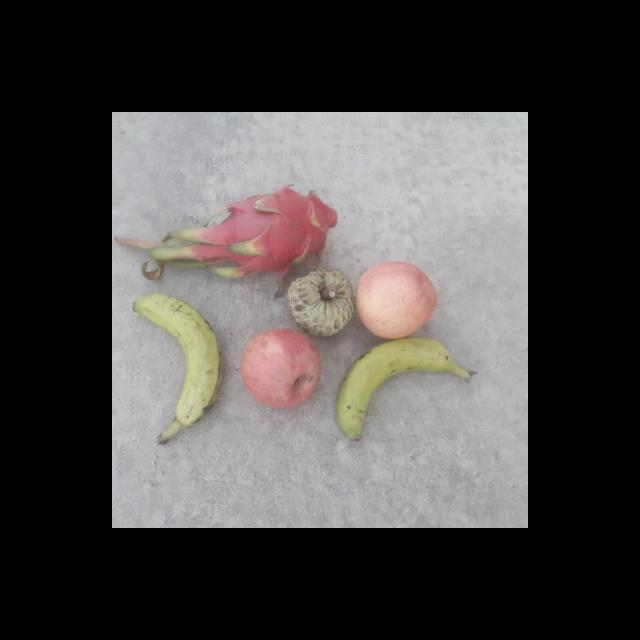Sakya fruit: (286, 266, 360, 338)
apple: (348, 258, 447, 340), (240, 328, 320, 410)
banana: (124, 294, 223, 442), (331, 338, 468, 436)
pitaya: (215, 178, 338, 286)
